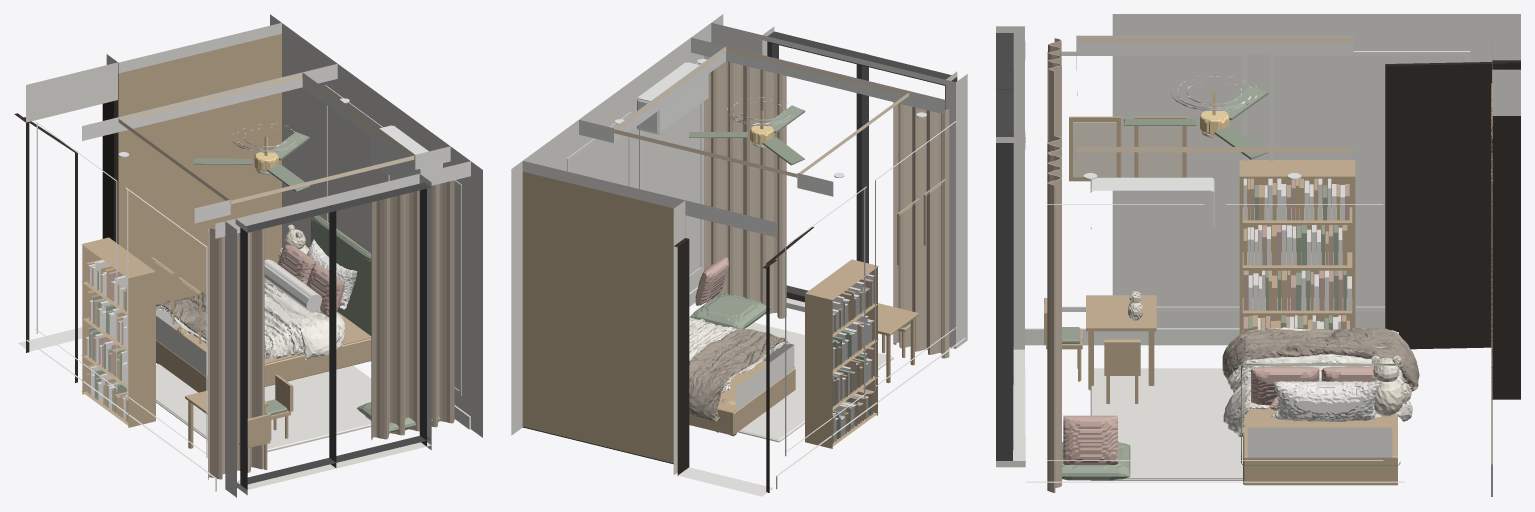
Rendered from ROOM3.glb.
The picture shows the model from 3 angles, left to right: view 1: azimuth 30°, elevation 25°; view 2: azimuth 150°, elevation 25°; view 3: azimuth 270°, elevation 25°; orthographic projection. The views are drawn at different scales.
Parts seen in each view (by area): view 1: WEB_ROOM3; view 2: WEB_ROOM3; view 3: WEB_ROOM3.
Boxes of the visible parts, x1,y1,x2,y2 form: WEB_ROOM3: [14, 14, 482, 497]; WEB_ROOM3: [511, 14, 967, 496]; WEB_ROOM3: [996, 14, 1520, 496].
Bounding box in the file's own units: 2.5 × 2.5 × 3.6.
